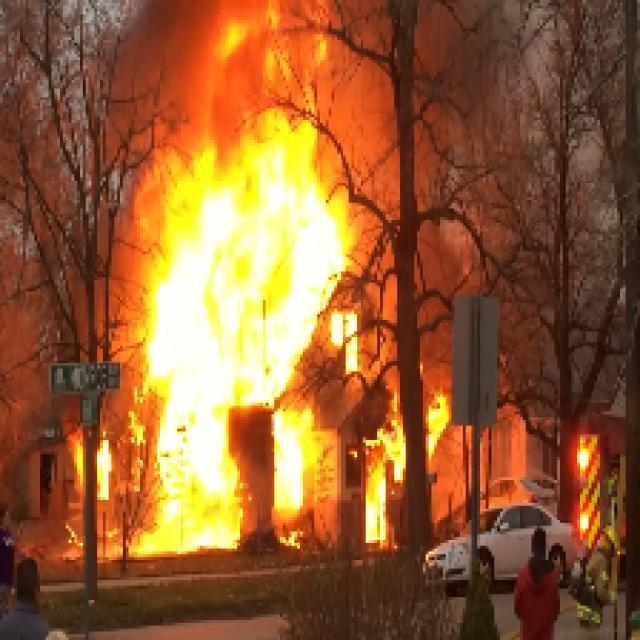Fire: (128, 154, 342, 539)
